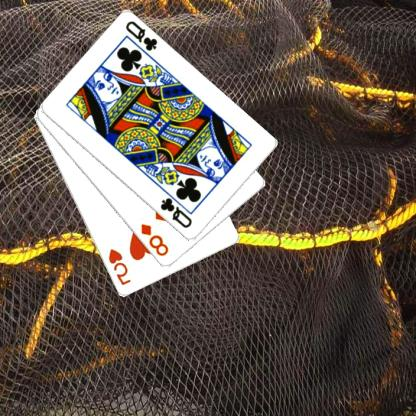5H: (107, 247, 134, 288)
8D: (140, 221, 172, 258)
QC: (124, 18, 160, 53), (160, 195, 195, 230)
